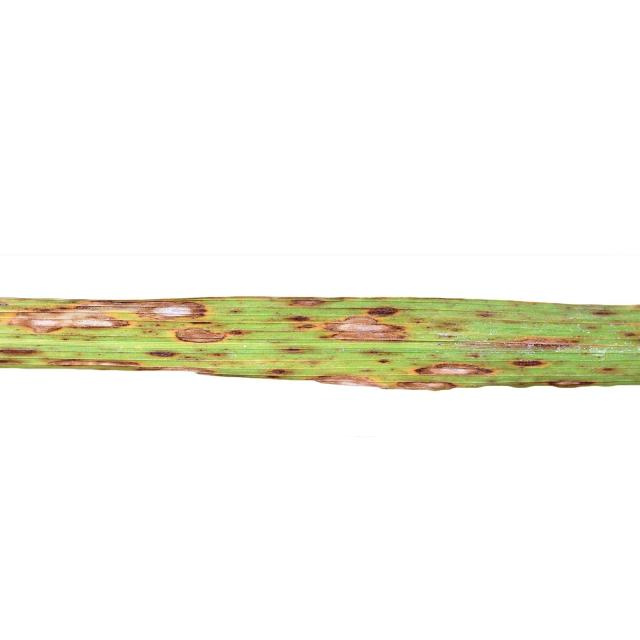Leaf blast: (1, 119, 640, 453)
